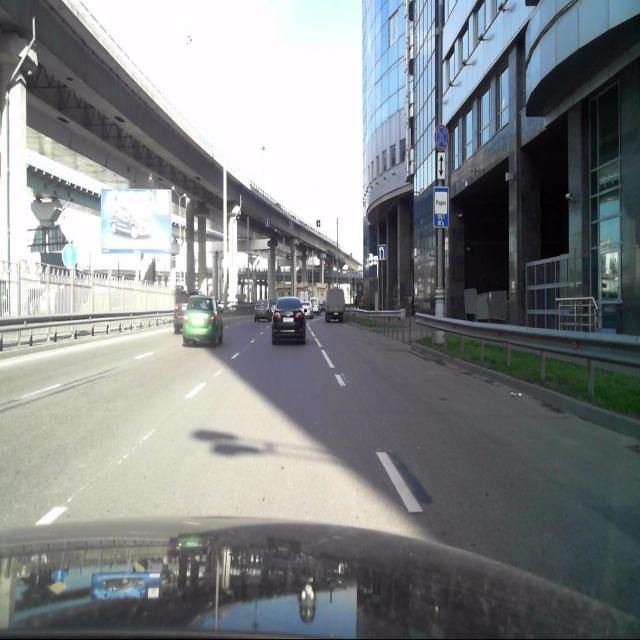road sign: (433, 185, 450, 228), (437, 150, 446, 180), (378, 243, 386, 260)
